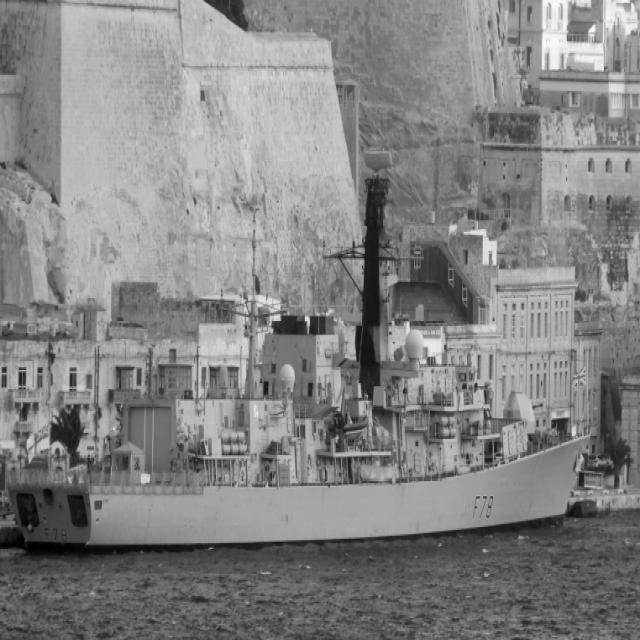Fragata: (2, 127, 595, 566)
